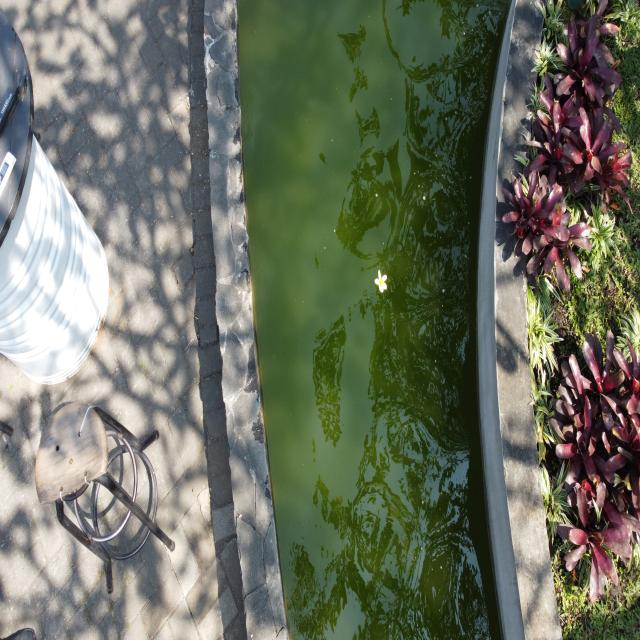Ponds: (204, 1, 564, 640)
